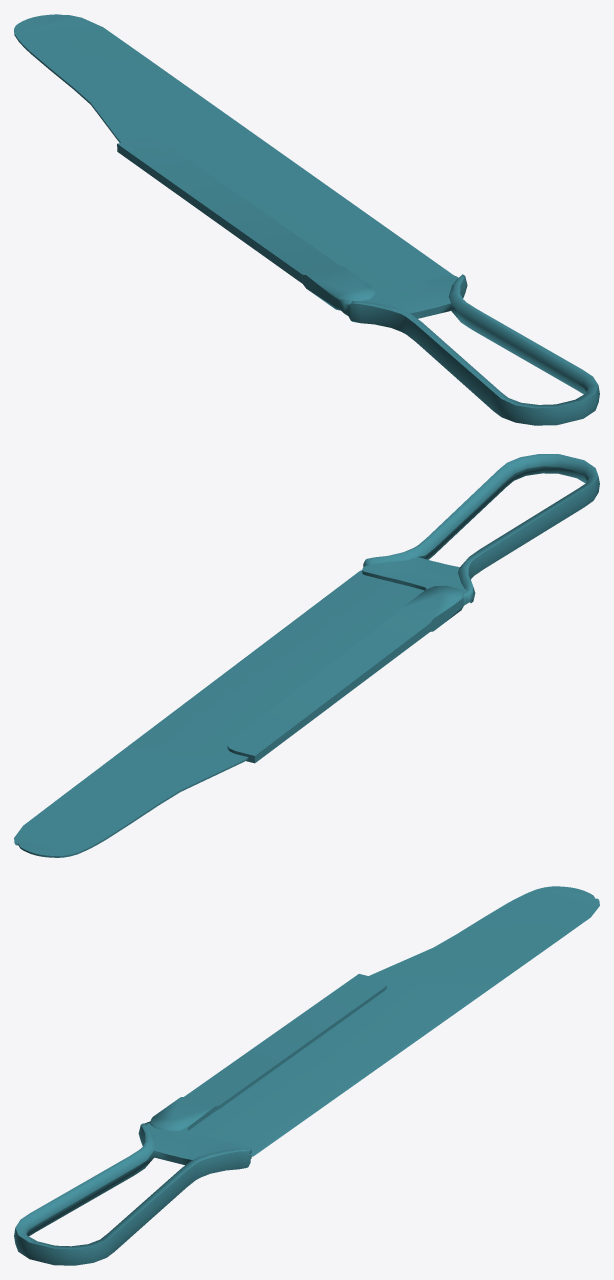
File: SM_Surgical_Saw_4.FBX
3 views of the same model, one above another, from view 1: azimuth 30°, elevation 25°; view 2: azimuth 150°, elevation 25°; view 3: azimuth 330°, elevation 25° (orthographic). The views are drawn at different scales.
Visible parts, largest first — view 1: Surgical_Saw_4; view 2: Surgical_Saw_4; view 3: Surgical_Saw_4.
Boxes of the visible parts, x1,y1,x2,y2 form: Surgical_Saw_4: (14, 14, 599, 425); Surgical_Saw_4: (14, 454, 599, 857); Surgical_Saw_4: (14, 886, 599, 1265).
Bounding box in the file's own units: 4.23 × 0.7973 × 34.63.
